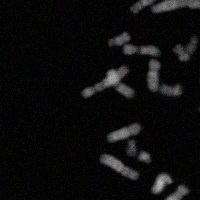chromosome: (82, 65, 130, 96), (100, 152, 138, 179), (109, 68, 134, 98), (128, 0, 181, 12), (107, 123, 140, 142), (174, 35, 198, 60), (152, 0, 200, 12), (123, 43, 161, 57), (151, 172, 172, 194), (147, 59, 161, 90), (161, 185, 188, 200), (161, 82, 181, 97), (107, 33, 128, 47), (138, 151, 154, 165), (127, 140, 136, 157)
